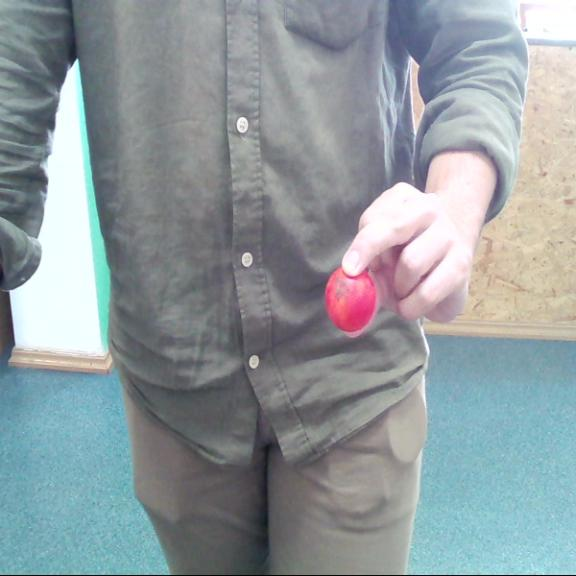ball: (326, 269, 378, 334)
